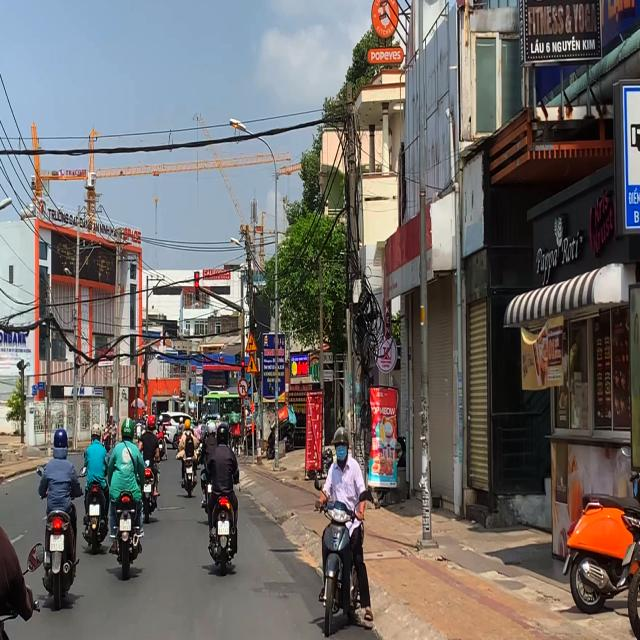Cam con lai: (237, 378, 249, 398)
Giao voi duong khong uu tien: (245, 353, 259, 374)
Nguy hiem: (245, 330, 259, 352)
